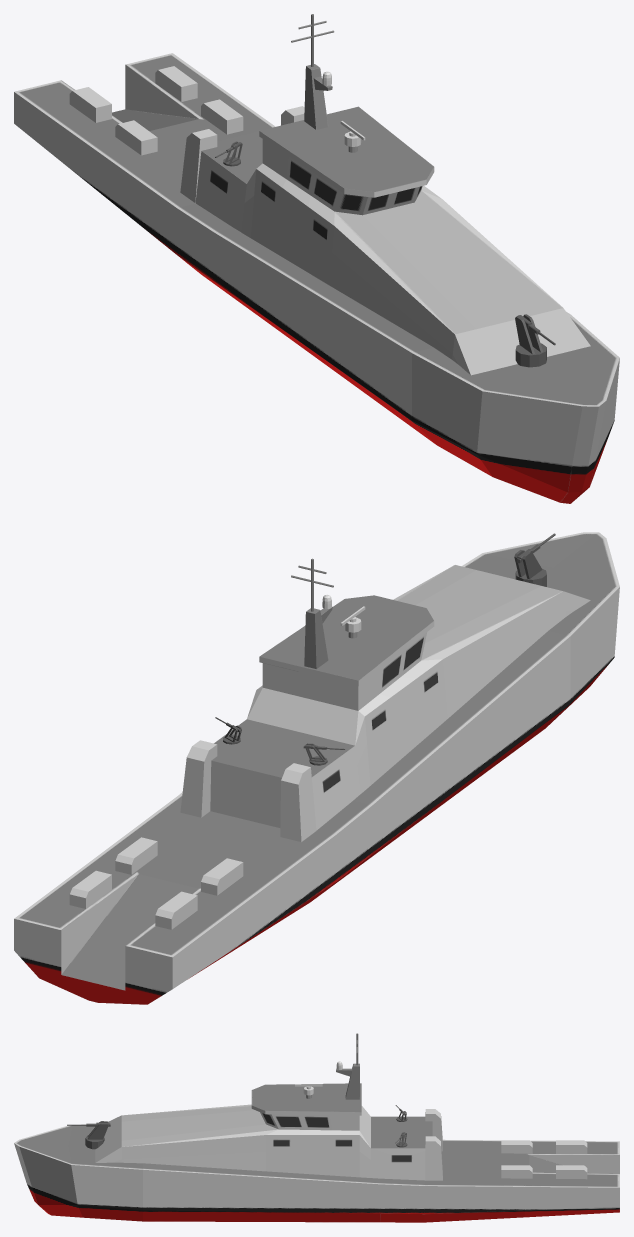
The picture shows the model from 3 angles, top to bottom: view 1: azimuth 30°, elevation 25°; view 2: azimuth 150°, elevation 25°; view 3: azimuth 270°, elevation 25°; orthographic projection. The views are drawn at different scales.
Parts seen in each view (by area): view 1: Cube; view 2: Cube; view 3: Cube.
Part boxes in pixels (x1=…): Cube: x1=14, y1=14, x2=619, y2=503; Cube: x1=14, y1=532, x2=619, y2=1004; Cube: x1=14, y1=1033, x2=619, y2=1222.
Size of the model in its own units: 82.23 by 152 by 454.
Materials: 4 (1 with a texture image).
